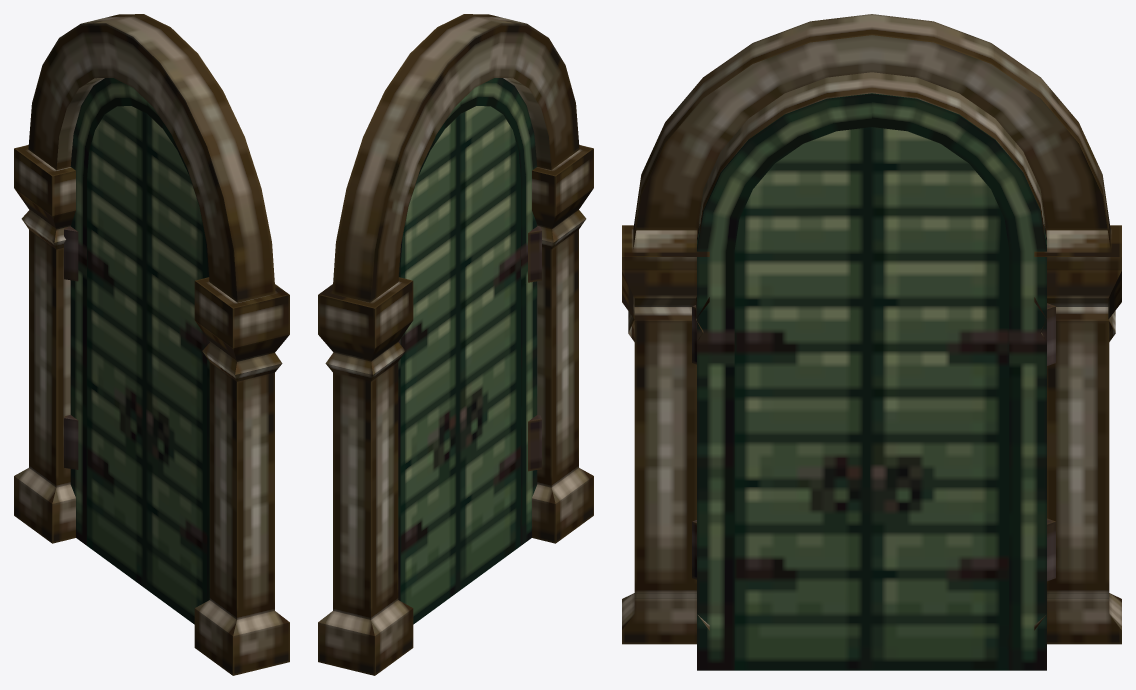
File: EnvBdgMD_Sea_A_Indoor_Window_E.FBX
3 renders of one model, left to right at view 1: azimuth 30°, elevation 25°; view 2: azimuth 150°, elevation 25°; view 3: azimuth 270°, elevation 25°, orthographic. The views are drawn at different scales.
Parts seen in each view (by area): view 1: EnvBdgMD_Sea_A_Indoor_Window_E; view 2: EnvBdgMD_Sea_A_Indoor_Window_E; view 3: EnvBdgMD_Sea_A_Indoor_Window_E.
Boxes of the visible parts, left/top/right/bottom form: EnvBdgMD_Sea_A_Indoor_Window_E: left=14, top=14, right=289, bottom=675; EnvBdgMD_Sea_A_Indoor_Window_E: left=318, top=14, right=593, bottom=675; EnvBdgMD_Sea_A_Indoor_Window_E: left=622, top=14, right=1121, bottom=670.
Bounding box in the file's own units: 30 × 281 × 200.
Materials: 1 (1 with a texture image).
